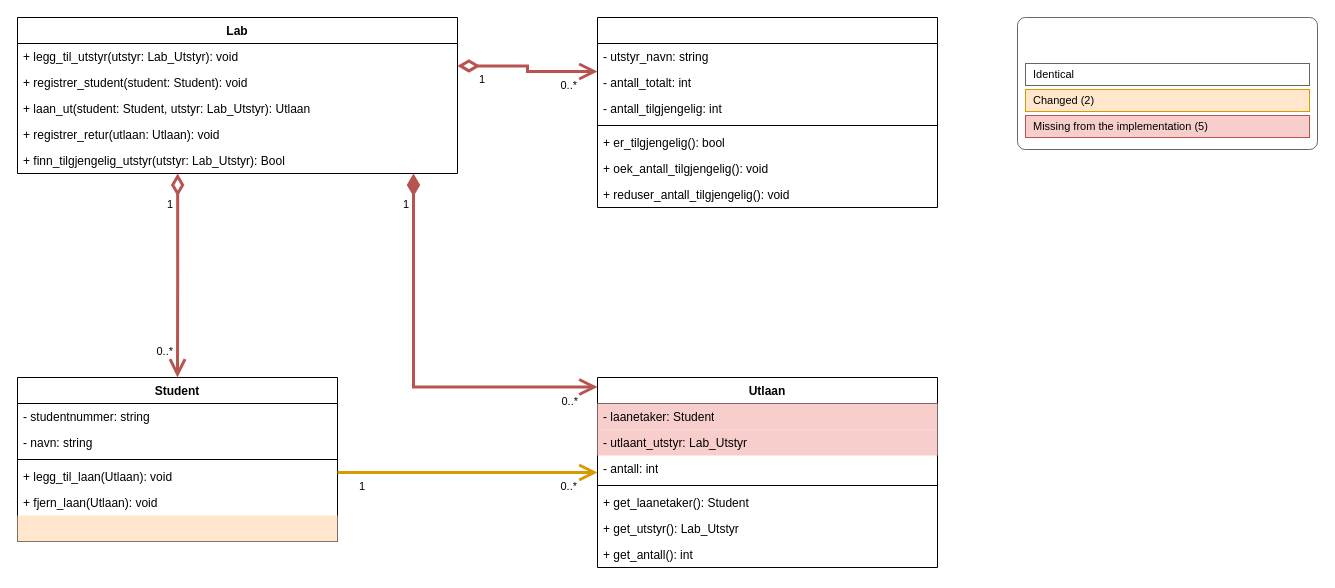
Some shapes in this 1335 by 588 pixel diagram are drawn without their labels. The box of each missing label's shape, as (x1, y1, x2, y2) in pixels:
+ get_laan(): Utlaan[0..*]: (17, 515, 337, 541)
DESIGN drawn by a person · diagrams/input/class.drawio: (1016, 16, 1318, 150)
Lab_Utstyr: (596, 16, 938, 208)
